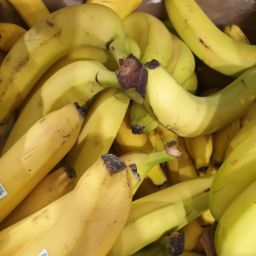Bannana: (10, 19, 213, 172), (3, 3, 212, 146), (105, 60, 256, 256), (152, 15, 256, 256), (84, 7, 256, 145), (3, 108, 144, 256)
